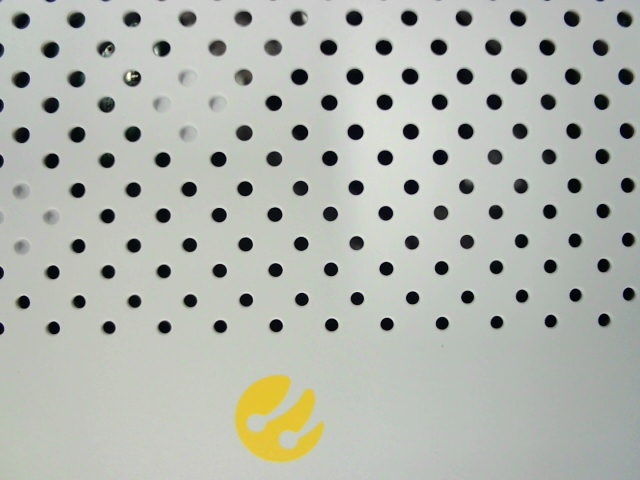AV_H3600Yellow: (219, 361, 340, 464)
